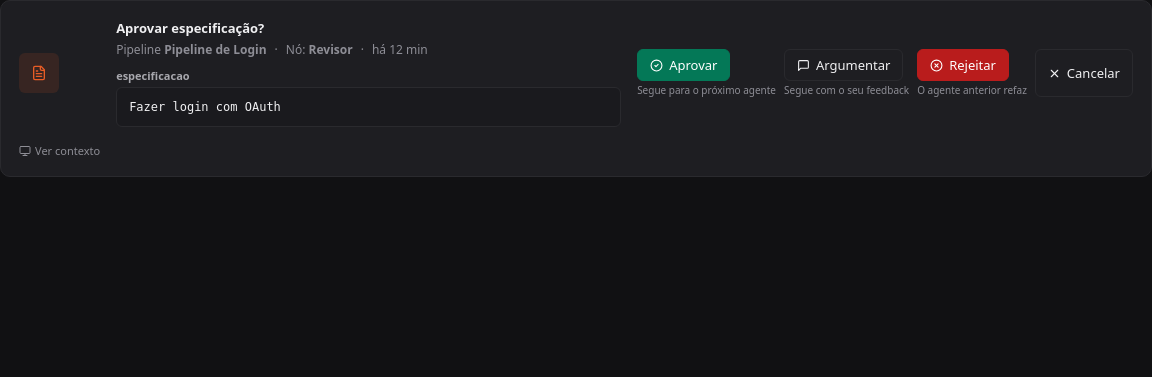
Test case: ApprovalQueue › Argumentar sem texto deixa Enviar desabilitado
Expected: the text "Aprovar especificação?" is shown, [116,19,264,37]
Click the button "Argumentar" at x=844, y=65, box [784,49,904,81]
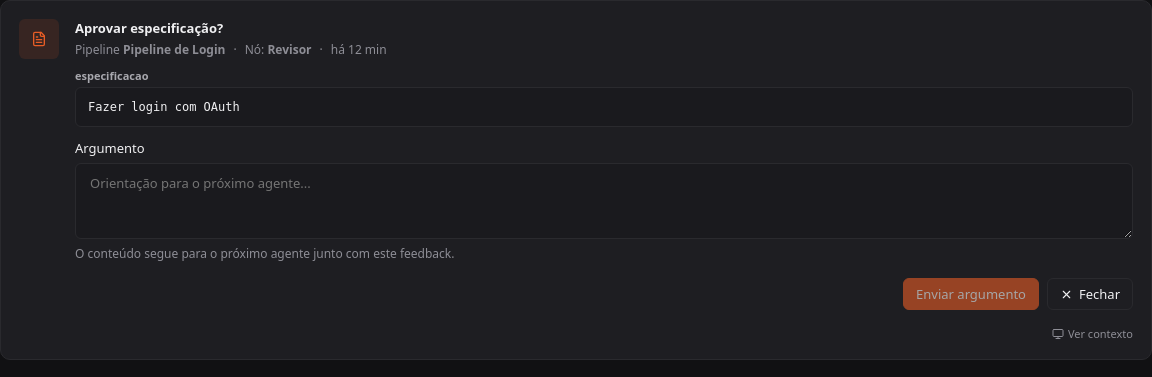
Result: the button "Enviar argumento" is disabled at [903,278,1039,310]
